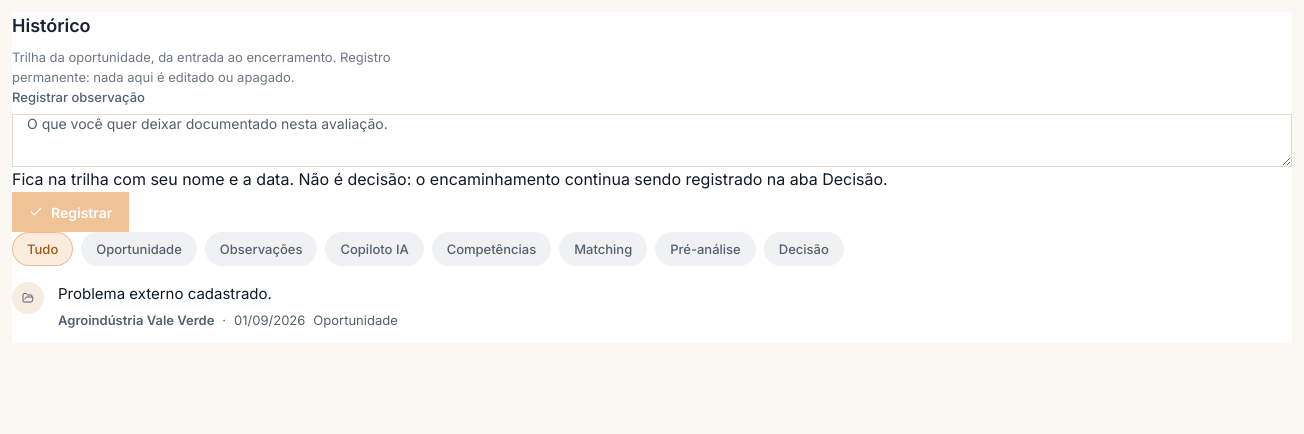
Test: AbaHistorico — observação do Supervisor (PB65) › registra a observação e ela aparece na trilha
Type "Laudo do lote de verão confirma a contaminação." into the text box labelled "Registrar observação" at (652, 140), box top-left (12, 114), bottom-right (1292, 167)
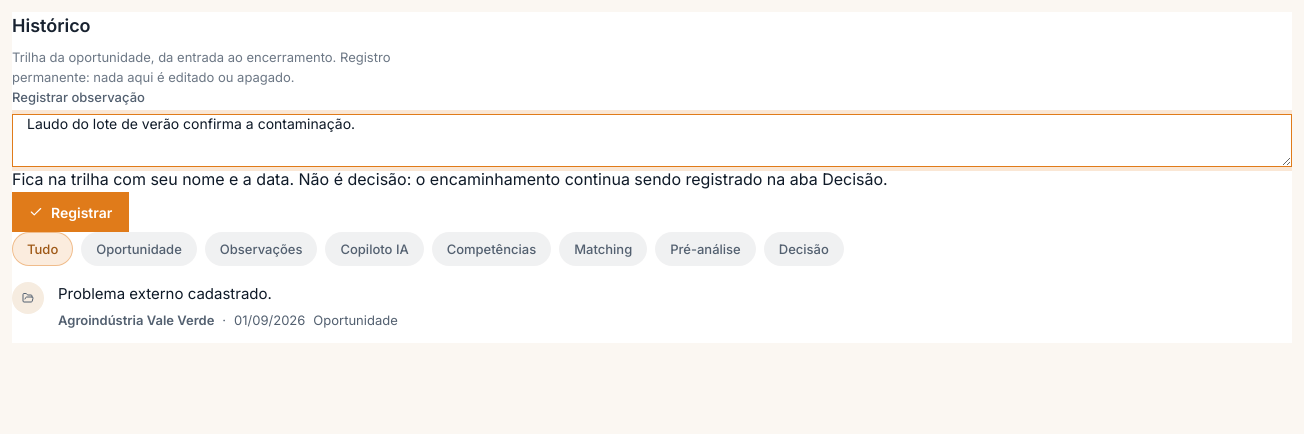
Click the button "Registrar" at (71, 212), box top-left (12, 192), bottom-right (129, 232)
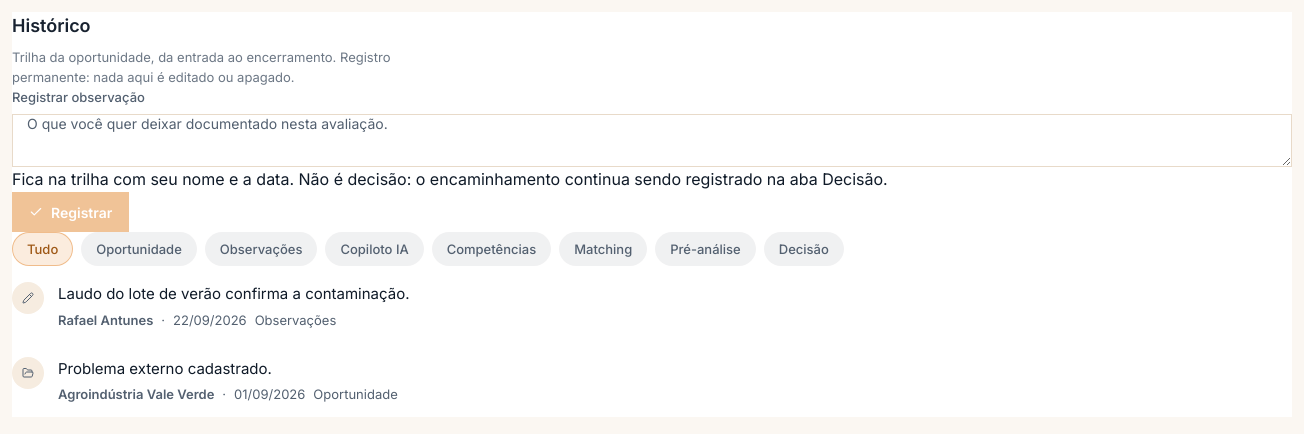
Check: the text "Laudo do lote de verão confirma a contaminação." is shown, box top-left (58, 284), bottom-right (410, 304)
